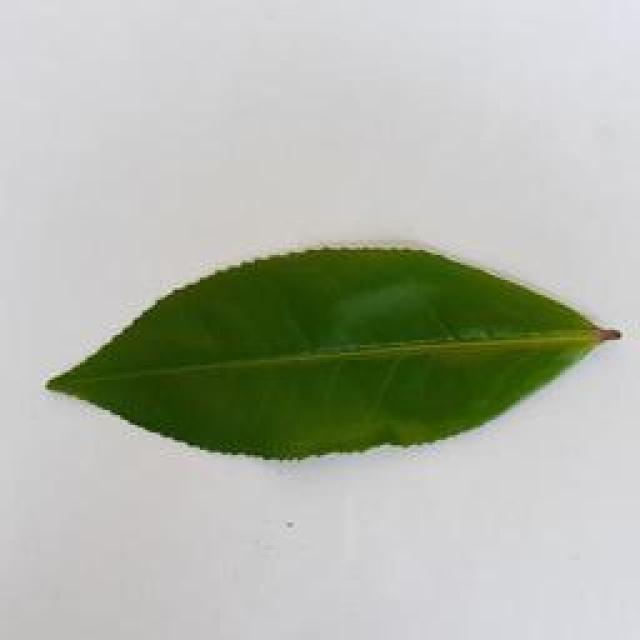Healthy: (51, 228, 625, 468)
